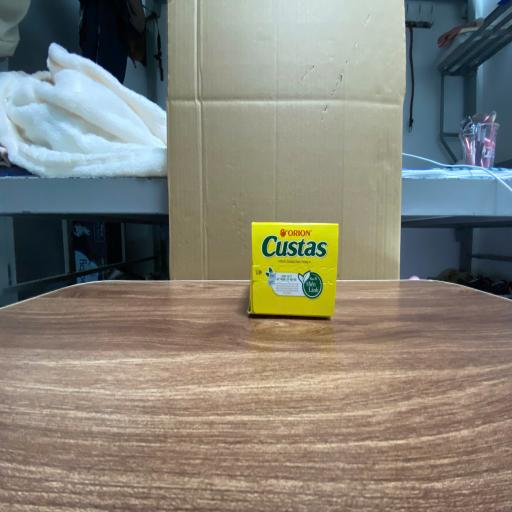custas: (248, 222, 339, 318)
